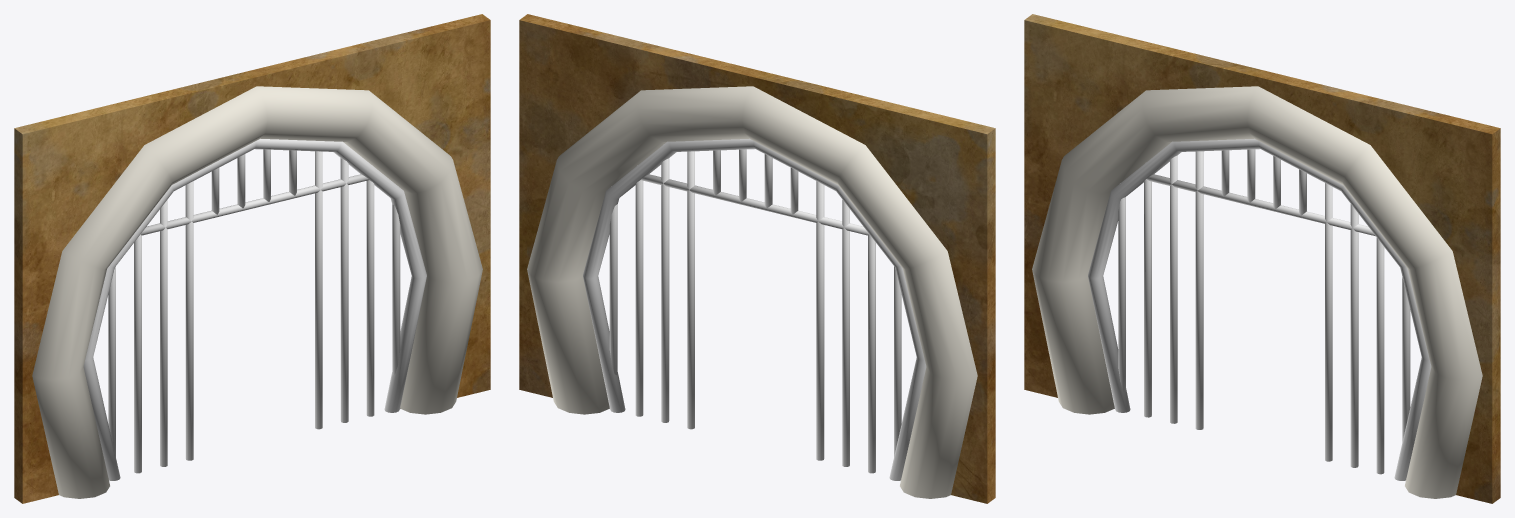
File: WallDoor.fbx
3 renders of one model, left to right at view 1: azimuth 30°, elevation 25°; view 2: azimuth 150°, elevation 25°; view 3: azimuth 330°, elevation 25°, orthographic.
Visible parts, largest first — view 1: GrilleHorizontale; view 2: GrilleHorizontale; view 3: GrilleHorizontale.
Part boxes in pixels (<box>): GrilleHorizontale: <box>14,14,490,503</box>; GrilleHorizontale: <box>519,14,995,503</box>; GrilleHorizontale: <box>1024,14,1500,503</box>.
Bounding box in the file's own units: 456 × 344 × 51.88.
